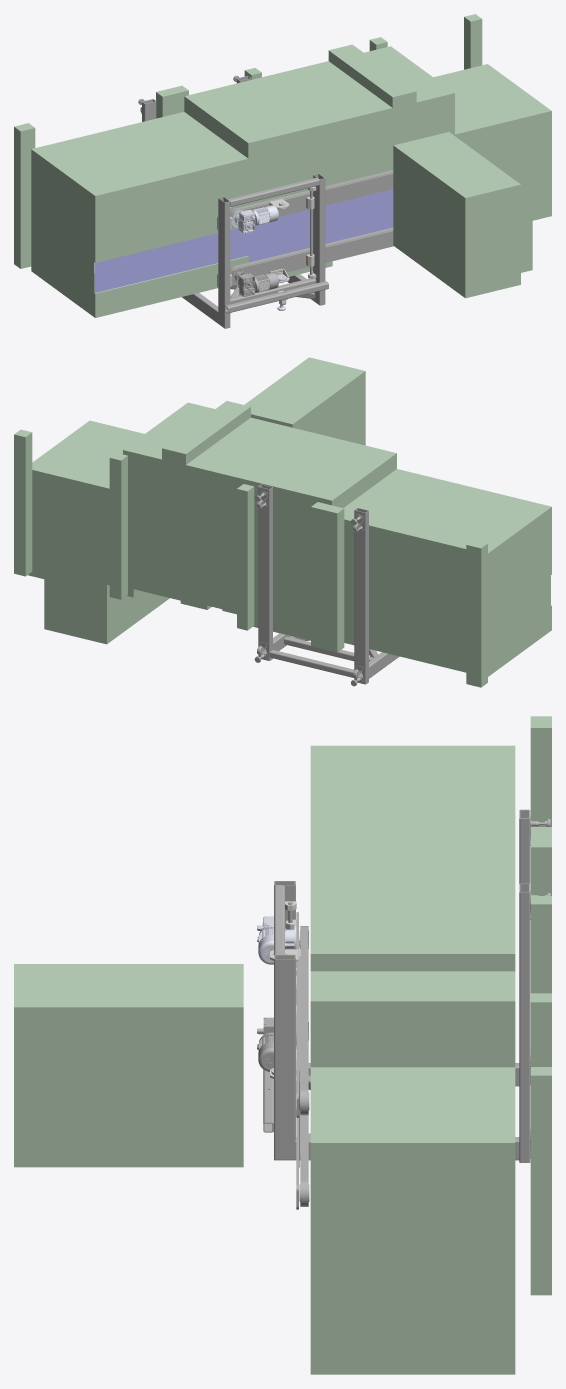
3 views of the same model, one above another, from view 1: azimuth 30°, elevation 25°; view 2: azimuth 150°, elevation 25°; view 3: azimuth 270°, elevation 25° (orthographic). The views are drawn at different scales.
Visible parts, largest first — view 1: AMC_Vomere_Carpenteria a Forche-1, AMC_Vomere_Carpenteria a Forche_Esportazione STEP-1, Mirrorc24010_amc_lamiera_base_r01-1, c24010_amc_lamiera_base_r01-1, MirrorPC 230M3T 40 B5S-1, PC 230M3T 40 B5S-1, Mirrorc24010_amc_cinghia_r01-1, c24010_amc_cinghia_r01-1; view 2: AMC_Vomere_Carpenteria a Forche-1, AMC_Vomere_Carpenteria a Forche_Esportazione STEP-1; view 3: AMC_Vomere_Carpenteria a Forche-1, AMC_Vomere_Carpenteria a Forche_Esportazione STEP-1, c24010_amc_cinghia_r01-1, Mirrorc24010_amc_cinghia_r01-1.
Boxes of the visible parts, box(x1,y1,x2,y2) form: AMC_Vomere_Carpenteria a Forche-1: box(14, 14, 551, 317); AMC_Vomere_Carpenteria a Forche_Esportazione STEP-1: box(142, 76, 328, 328); Mirrorc24010_amc_lamiera_base_r01-1: box(217, 230, 393, 287); c24010_amc_lamiera_base_r01-1: box(217, 173, 393, 229); MirrorPC 230M3T 40 B5S-1: box(236, 272, 278, 296); PC 230M3T 40 B5S-1: box(236, 205, 278, 233); Mirrorc24010_amc_cinghia_r01-1: box(230, 227, 393, 269); c24010_amc_cinghia_r01-1: box(230, 170, 393, 212); AMC_Vomere_Carpenteria a Forche-1: box(14, 357, 551, 687); AMC_Vomere_Carpenteria a Forche_Esportazione STEP-1: box(258, 484, 399, 684); AMC_Vomere_Carpenteria a Forche-1: box(14, 716, 551, 1374); AMC_Vomere_Carpenteria a Forche_Esportazione STEP-1: box(263, 809, 530, 1162); c24010_amc_cinghia_r01-1: box(300, 926, 308, 1115); Mirrorc24010_amc_cinghia_r01-1: box(300, 1115, 308, 1206).
Size of the model in its own units: 3.14 by 1.34 by 1.98.
